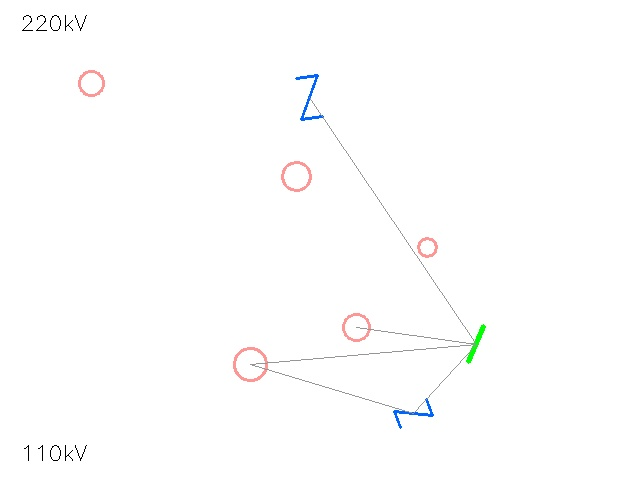busbar: (452, 320, 500, 368)
circuit_breaker: (286, 74, 332, 120), (394, 394, 432, 432)
fuse: (66, 58, 116, 108)
load_break_switch: (218, 332, 282, 396), (409, 229, 445, 265)
surge_arrester: (268, 148, 324, 204), (330, 301, 382, 353)
